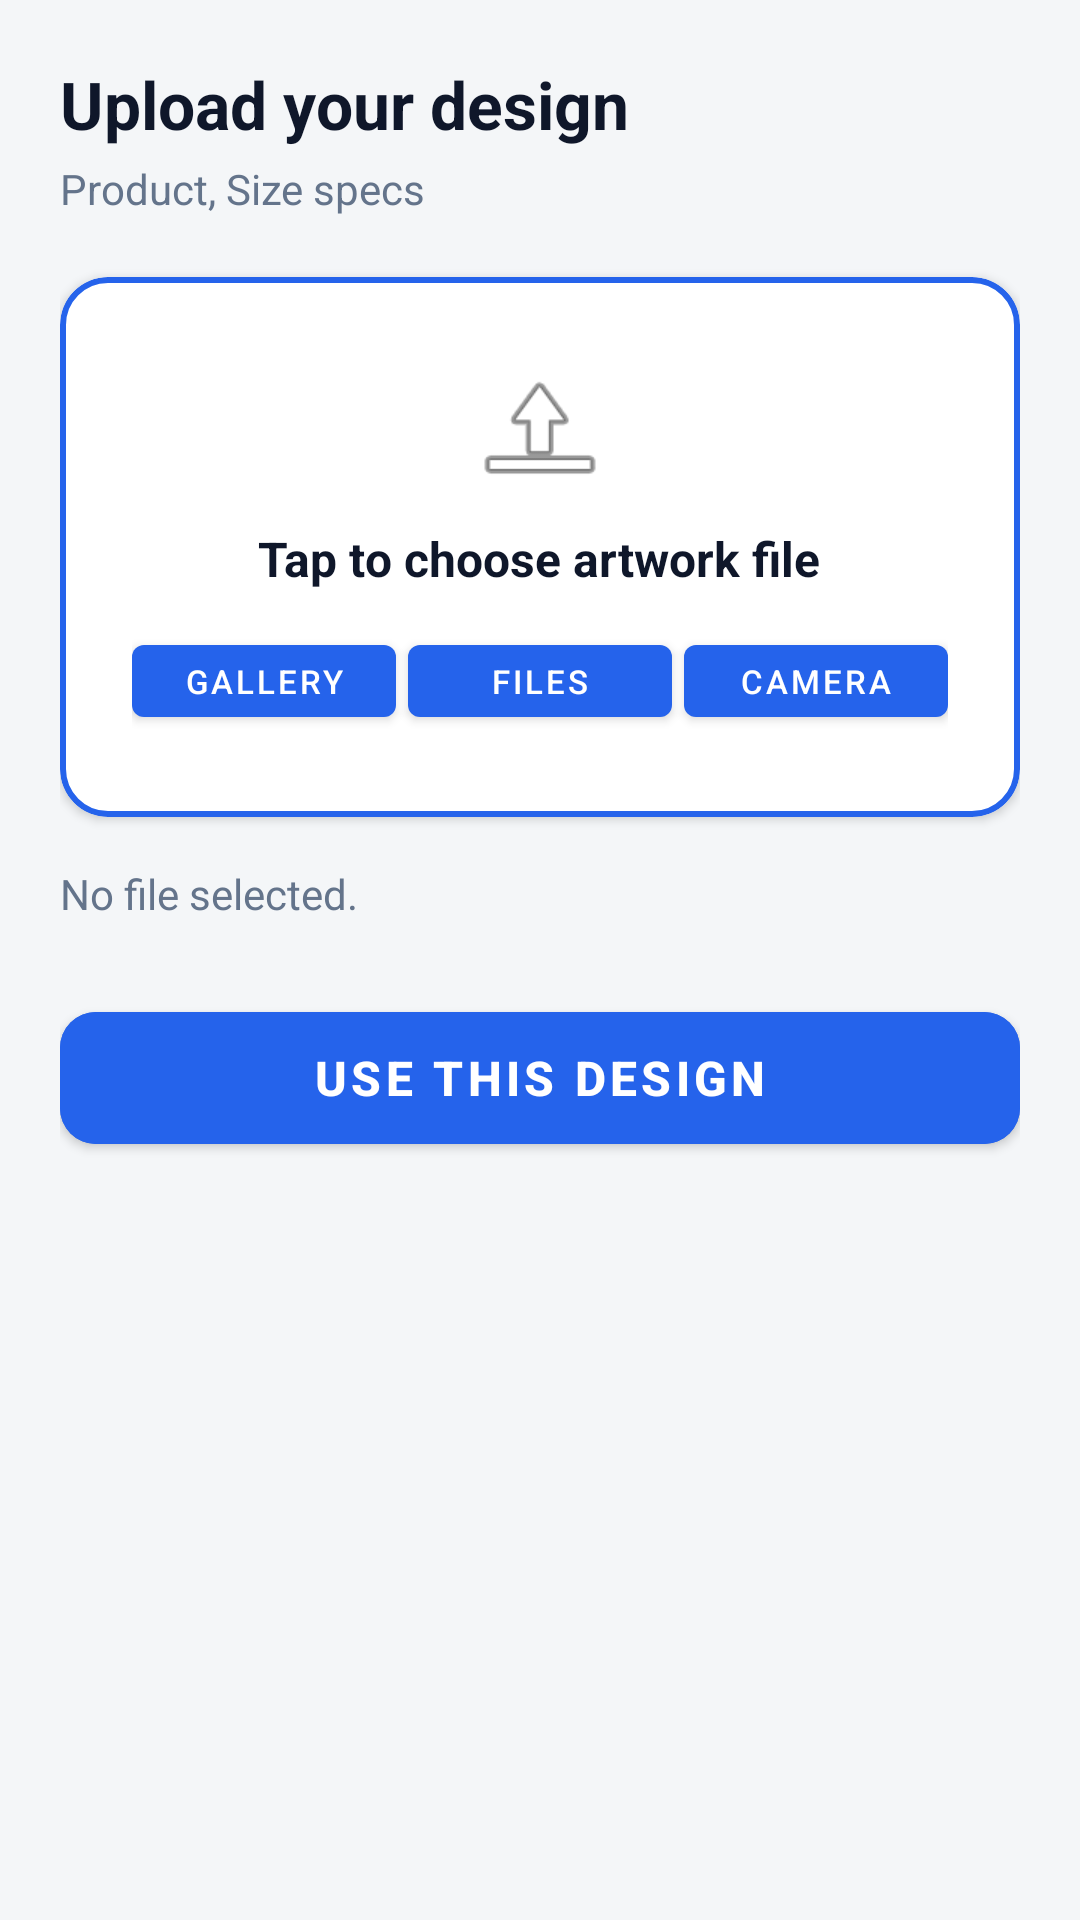

Icon click points for this 1080 × 1920 phone screenshot, format (x,y):
Upload icon: (540,428)
